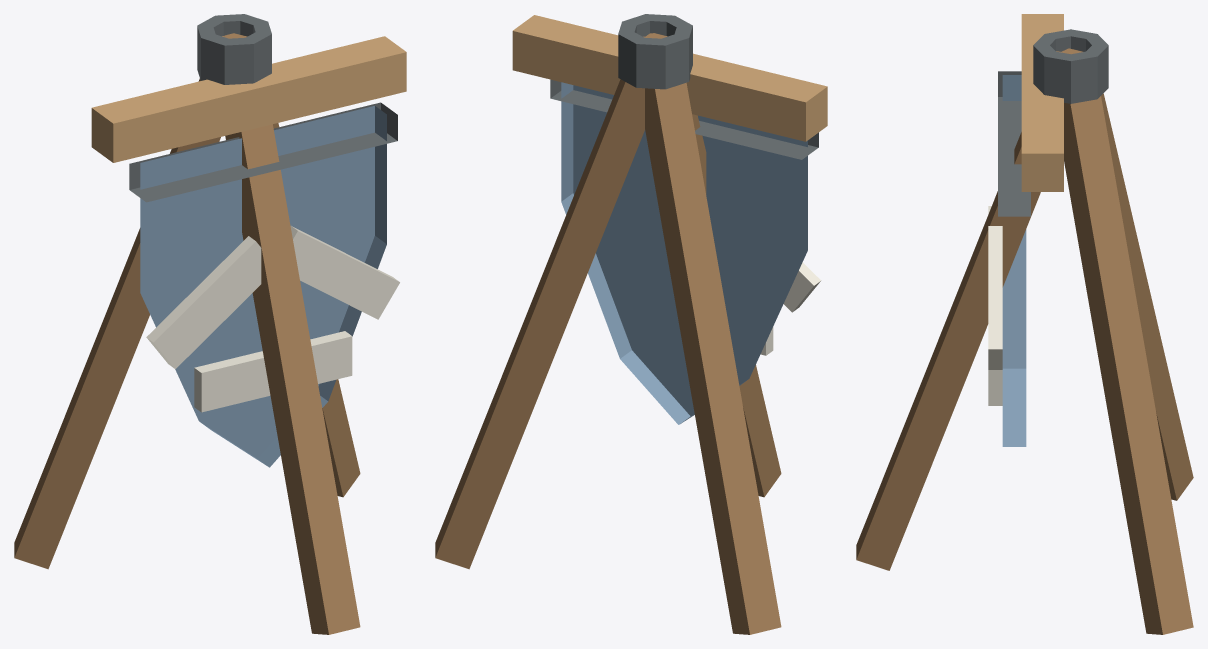
File: shield-on-stand-chevron.glb
The picture shows the model from 3 angles, left to right: view 1: azimuth 30°, elevation 25°; view 2: azimuth 150°, elevation 25°; view 3: azimuth 270°, elevation 25°; orthographic projection. The views are drawn at different scales.
Visible parts, largest first — view 1: shield-on-stand-chevron; view 2: shield-on-stand-chevron; view 3: shield-on-stand-chevron.
Boxes of the visible parts, bbox=[...] form: shield-on-stand-chevron: bbox=[14, 14, 406, 634]; shield-on-stand-chevron: bbox=[435, 14, 827, 634]; shield-on-stand-chevron: bbox=[856, 14, 1193, 634].
Size of the model in its own units: 0.826 by 1.21 by 0.7154.
